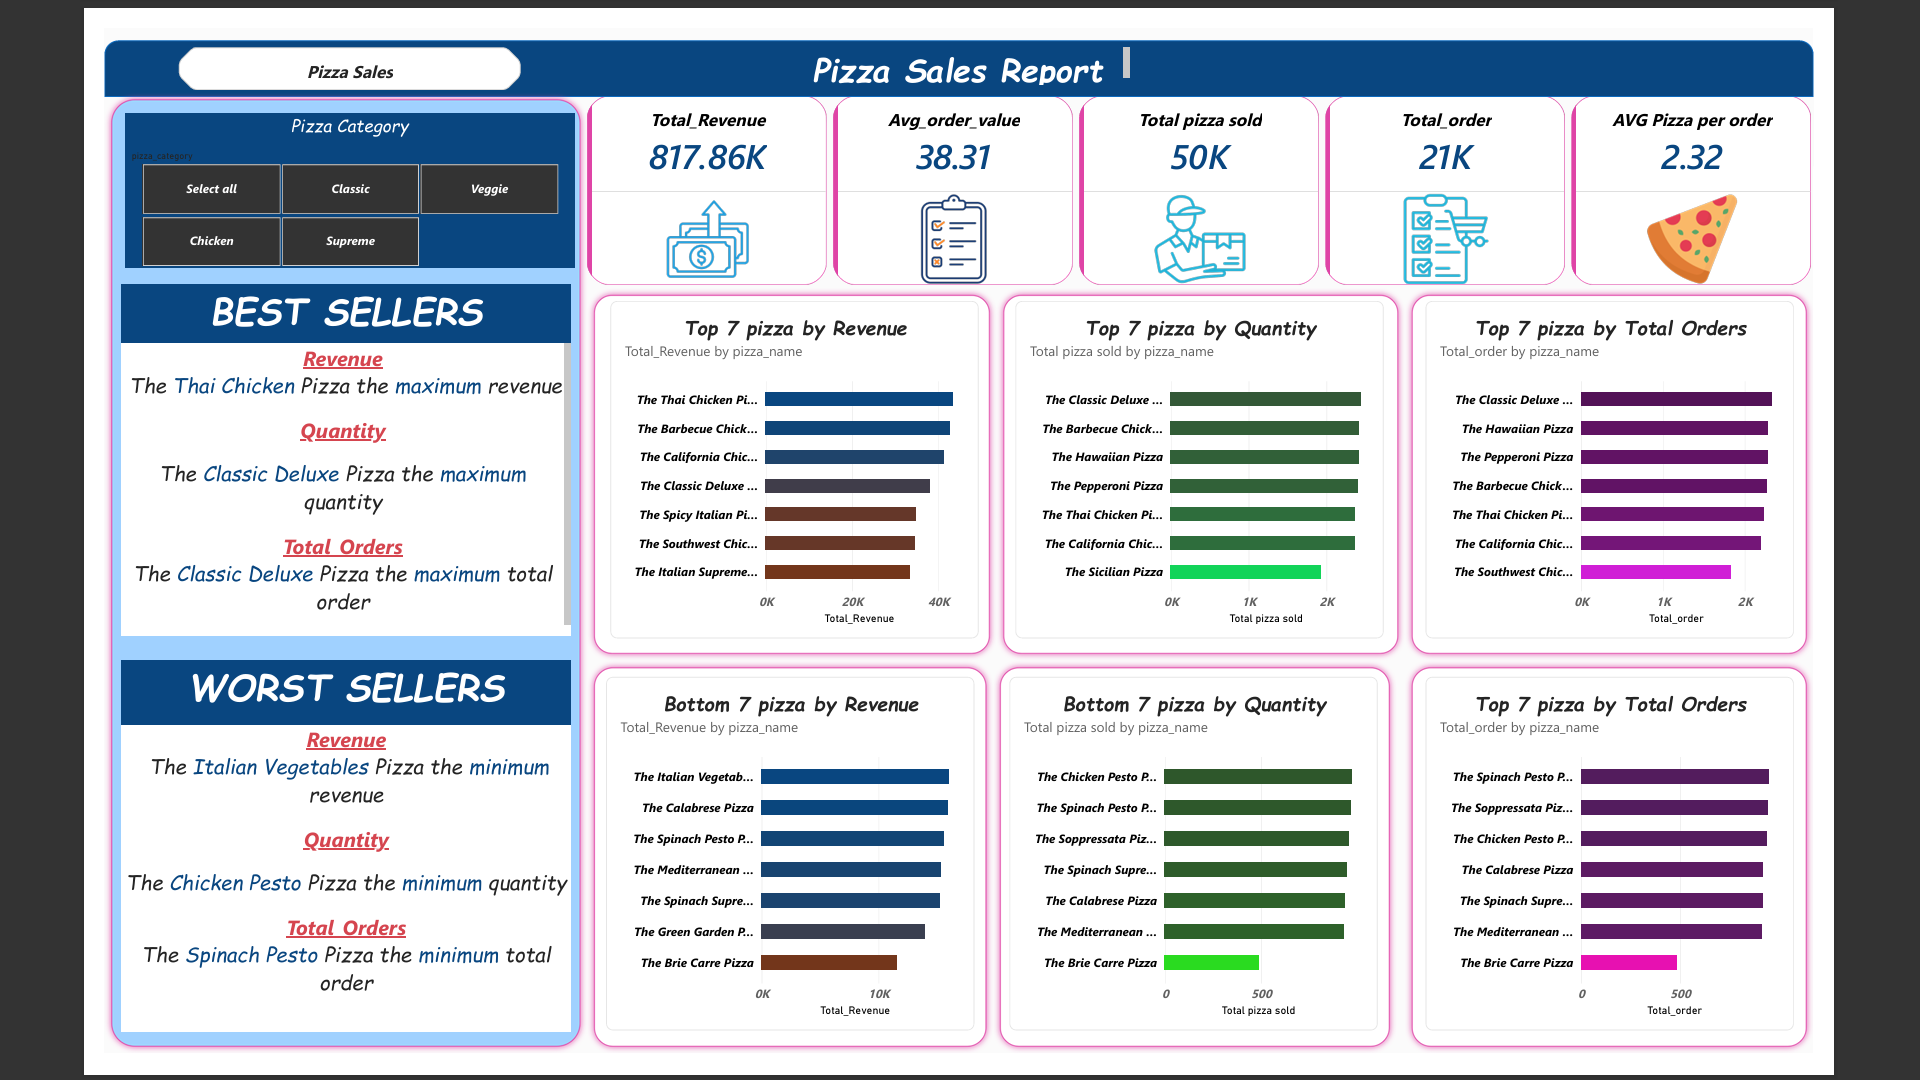

What the dashboard file says about the page in this screenshot:
{"tool":"powerbi","page":{"name":"Best / Worst sellers","canvas":[2000,1200],"ordinal":1},"visuals":[{"type":"shape","box":[33.7,99.2,506,91.3],"z":0},{"type":"cardVisual","fields":{"Data":["pizza_saless.Total_Revenue","pizza_saless.Avg_order_value","pizza_saless.Total pizza sold","pizza_saless.Total_order","pizza_saless.AVG Pizza per order"]},"box":[565.5,79.4,1434.5,220.2],"z":1000},{"type":"shape","box":[0,13.9,2000.3,65.8],"z":2000},{"type":"textbox","box":[803.6,21.8,396.8,43.7],"z":3000},{"type":"shape","box":[565.5,740.1,474.2,460.3],"z":9000},{"type":"shape","box":[1521.8,740.1,478.2,460.3],"z":10000},{"type":"shape","box":[1039.7,740.1,472.2,460.3],"z":11000},{"type":"shape","box":[0,75.4,565.5,1125],"z":15000},{"type":"textbox","box":[19.8,299.6,525.8,69.4],"z":16000},{"type":"textbox","box":[19.8,369,525.8,343.3],"z":17000},{"type":"textbox","box":[19.8,815.5,525.8,359.1],"z":18000},{"type":"textbox","box":[19.8,740.1,525.8,75.4],"z":19000},{"type":"slicer","title":"Pizza Category","fields":{"Values":["pizza_saless.pizza_category"]},"box":[23.8,99.2,525.8,180.6],"z":20000},{"type":"shape","box":[1521.8,303.6,478.2,436.5],"z":20001},{"type":"shape","box":[565.5,303.6,478.2,436.5],"z":20002},{"type":"shape","box":[1043.7,303.6,478.2,436.5],"z":20003},{"type":"barChart","title":"Top 7 pizza by Revenue","fields":{"Category":["pizza_saless.pizza_name"],"Y":["pizza_saless.Total_Revenue"]},"box":[591.8,319.5,431,394.5],"z":20004},{"type":"barChart","title":"Bottom 7 pizza by Revenue","fields":{"Category":["pizza_saless.pizza_name"],"Y":["pizza_saless.Total_Revenue"]},"box":[587.5,759,431,413.8],"z":20010},{"type":"barChart","title":"Bottom 7 pizza by Quantity","fields":{"Category":["pizza_saless.pizza_name"],"Y":["pizza_saless.Total pizza sold"]},"box":[1059.2,759,431,413.8],"z":20011},{"type":"barChart","title":"Top 7 pizza by Quantity","fields":{"Category":["pizza_saless.pizza_name"],"Y":["pizza_saless.Total pizza sold"]},"box":[1065.6,319.5,431,394.5],"z":20012},{"type":"barChart","title":"Top 7 pizza by Total  Orders","fields":{"Category":["pizza_saless.pizza_name"],"Y":["pizza_saless.Total_order"]},"box":[1545.9,759,431,413.8],"z":20013},{"type":"barChart","title":"Top 7 pizza by Total Orders","fields":{"Category":["pizza_saless.pizza_name"],"Y":["pizza_saless.Total_order"]},"box":[1545.9,319.5,431,394.5],"z":20014},{"type":"pageNavigator","box":[87.3,21.8,400,50],"z":20015}]}

Visuals, with their boxes on the page's 2000x1200 design canvas (x1, y1, x2, y2). These are canvas units, not pixel positions in the 1920x1080 screenshot, which may show the page scaled, cropped or inside an application window:
shape: x1=34 y1=99 x2=540 y2=190
cardVisual - pizza_saless.Total_Revenue x pizza_saless.Avg_order_value: x1=566 y1=79 x2=2000 y2=300
shape: x1=0 y1=14 x2=2000 y2=80
textbox: x1=804 y1=22 x2=1200 y2=66
shape: x1=566 y1=740 x2=1040 y2=1200
shape: x1=1522 y1=740 x2=2000 y2=1200
shape: x1=1040 y1=740 x2=1512 y2=1200
shape: x1=0 y1=75 x2=566 y2=1200
textbox: x1=20 y1=300 x2=546 y2=369
textbox: x1=20 y1=369 x2=546 y2=712
textbox: x1=20 y1=816 x2=546 y2=1175
textbox: x1=20 y1=740 x2=546 y2=816
"Pizza Category" slicer: x1=24 y1=99 x2=550 y2=280
shape: x1=1522 y1=304 x2=2000 y2=740
shape: x1=566 y1=304 x2=1044 y2=740
shape: x1=1044 y1=304 x2=1522 y2=740
"Top 7 pizza by Revenue" barChart: x1=592 y1=320 x2=1023 y2=714
"Bottom 7 pizza by Revenue" barChart: x1=588 y1=759 x2=1018 y2=1173
"Bottom 7 pizza by Quantity" barChart: x1=1059 y1=759 x2=1490 y2=1173
"Top 7 pizza by Quantity" barChart: x1=1066 y1=320 x2=1497 y2=714
"Top 7 pizza by Total  Orders" barChart: x1=1546 y1=759 x2=1977 y2=1173
"Top 7 pizza by Total Orders" barChart: x1=1546 y1=320 x2=1977 y2=714
pageNavigator: x1=87 y1=22 x2=487 y2=72
